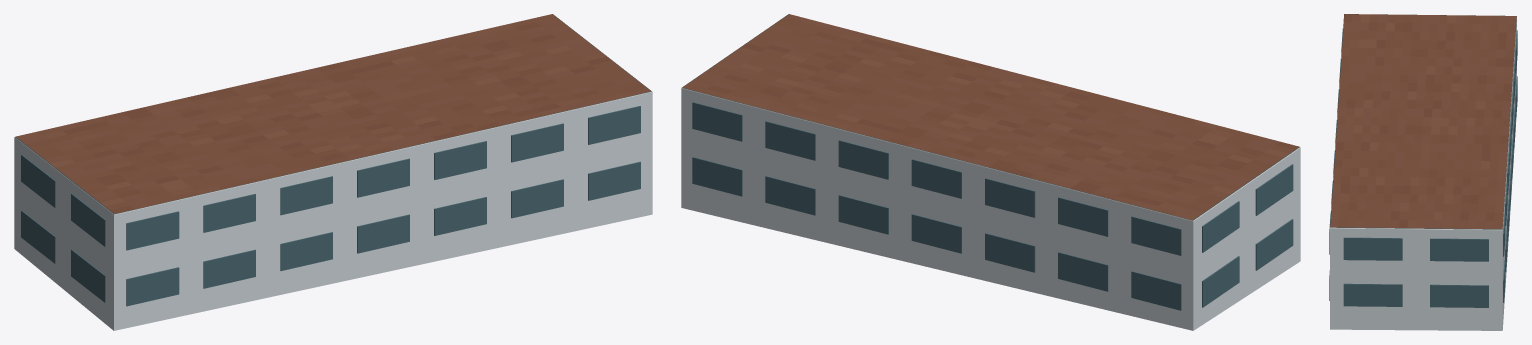
Rendered from intact.glb.
3 views of the same model, side by side, from view 1: azimuth 30°, elevation 25°; view 2: azimuth 150°, elevation 25°; view 3: azimuth 270°, elevation 25° (orthographic). The views are drawn at different scales.
Parts seen in each view (by area): view 1: SM_myeonhak_Intact_00, SM_myeonhak_Intact_01; view 2: SM_myeonhak_Intact_00, SM_myeonhak_Intact_01; view 3: SM_myeonhak_Intact_00, SM_myeonhak_Intact_01.
Part boxes in pixels (left/top/right/bottom): SM_myeonhak_Intact_00: left=14, top=14, right=652, bottom=330; SM_myeonhak_Intact_01: left=21, top=106, right=640, bottom=306; SM_myeonhak_Intact_00: left=681, top=14, right=1300, bottom=330; SM_myeonhak_Intact_01: left=692, top=102, right=1293, bottom=310; SM_myeonhak_Intact_00: left=1330, top=14, right=1516, bottom=330; SM_myeonhak_Intact_01: left=1329, top=28, right=1517, bottom=307.
Size of the model in its own units: 2.2 by 0.4833 by 0.8092.
Materials: 4 (1 with a texture image).
